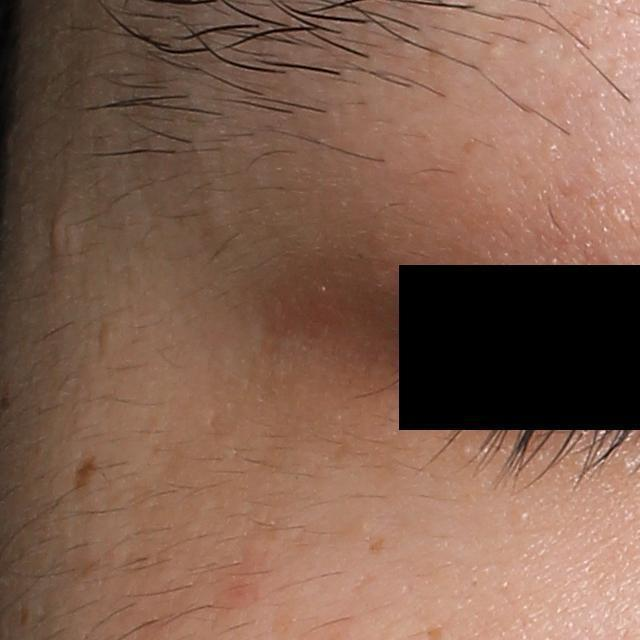melasma: (364, 535, 384, 556)
nevus: (70, 457, 100, 493)
papule: (43, 207, 70, 252)
